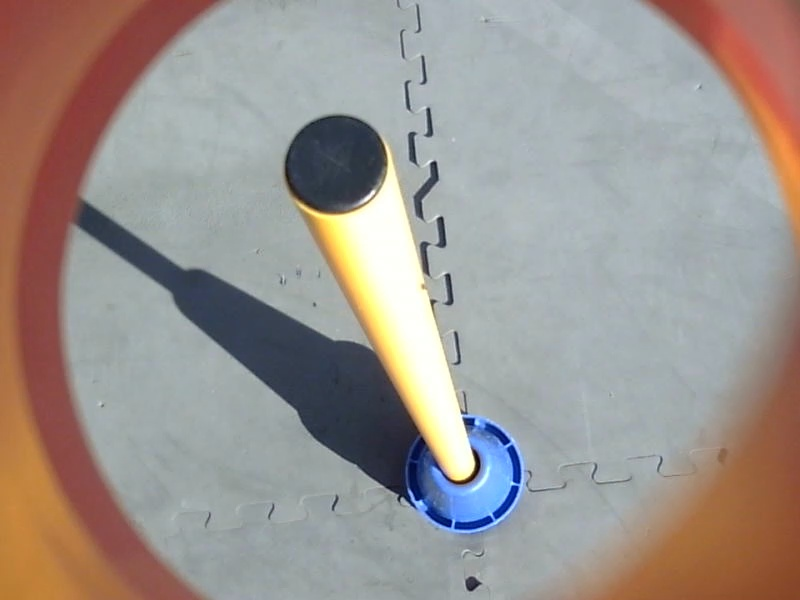tip: (279, 109, 396, 221)
